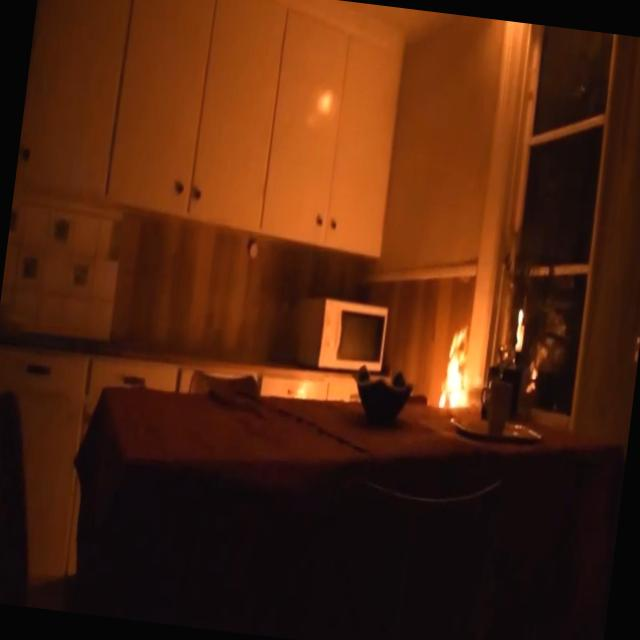fire: (410, 282, 496, 449)
